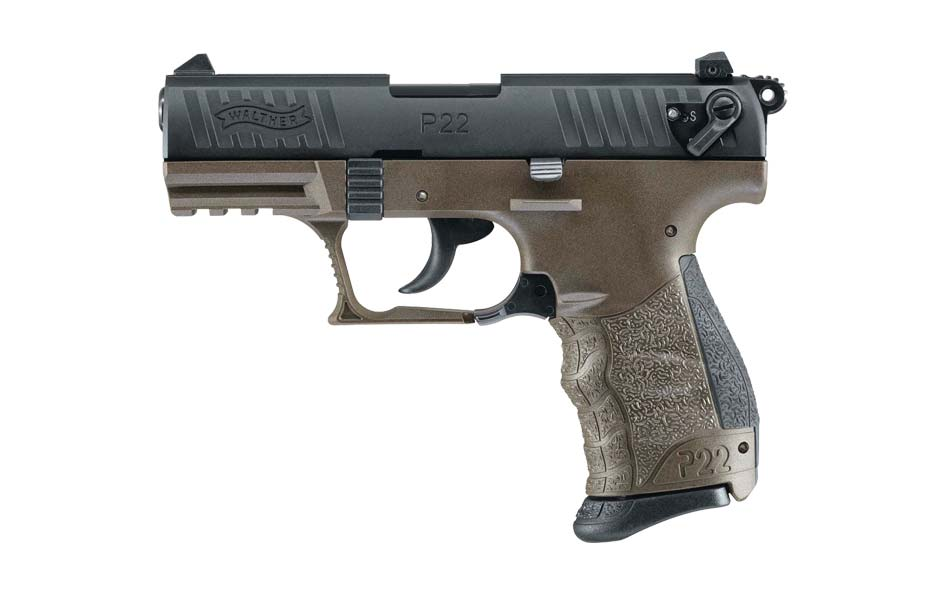gun: (151, 47, 802, 551)
